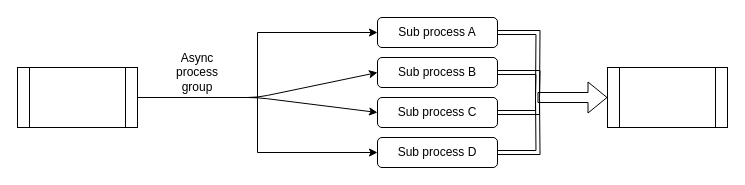
Some shapes in this 745 by 185 pixel diagram are drawn without their labels. Here are the shapes that lost their labels. From the top down, the centre of each, then its label:
At [77,97]: "process".
At [667,97]: "collect observe and trigger".
